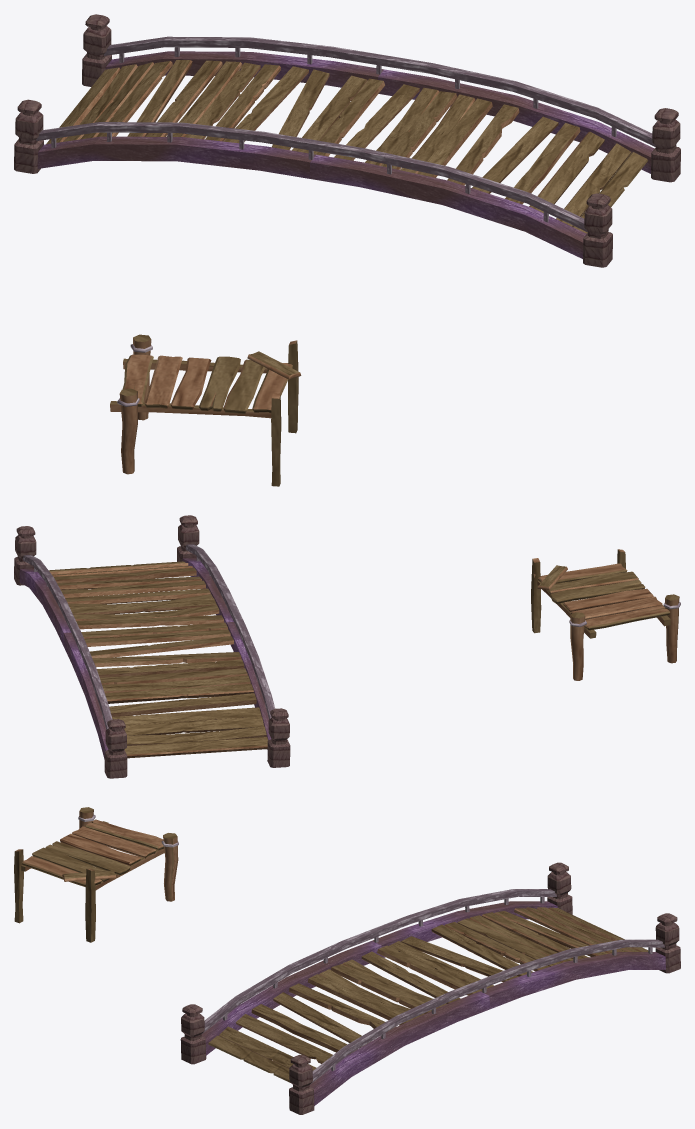
File: s0_AG_Bridge_01_Art_01.glb
The picture shows the model from 3 angles, top to bottom: view 1: azimuth 30°, elevation 25°; view 2: azimuth 150°, elevation 25°; view 3: azimuth 270°, elevation 25°; orthographic projection. The views are drawn at different scales.
Visible parts, largest first — view 1: node_Str_Bridge_01, node_Str_Dock_01; view 2: node_Str_Bridge_01, node_Str_Dock_01; view 3: node_Str_Bridge_01, node_Str_Dock_01.
Part boxes in pixels (<box>): node_Str_Bridge_01: <box>14,14,680,267</box>; node_Str_Dock_01: <box>110,334,301,486</box>; node_Str_Bridge_01: <box>14,515,290,778</box>; node_Str_Dock_01: <box>531,549,680,680</box>; node_Str_Bridge_01: <box>180,862,680,1114</box>; node_Str_Dock_01: <box>14,807,178,942</box>.
Size of what is drawn, in the model's own units: 21.64 by 3.59 by 22.42.
Materials: 3 (3 with a texture image).
